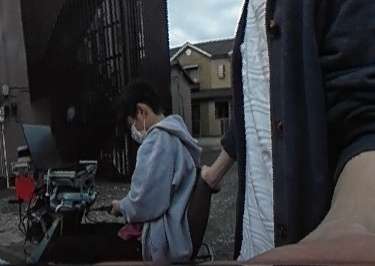person: (60, 79, 194, 266)
